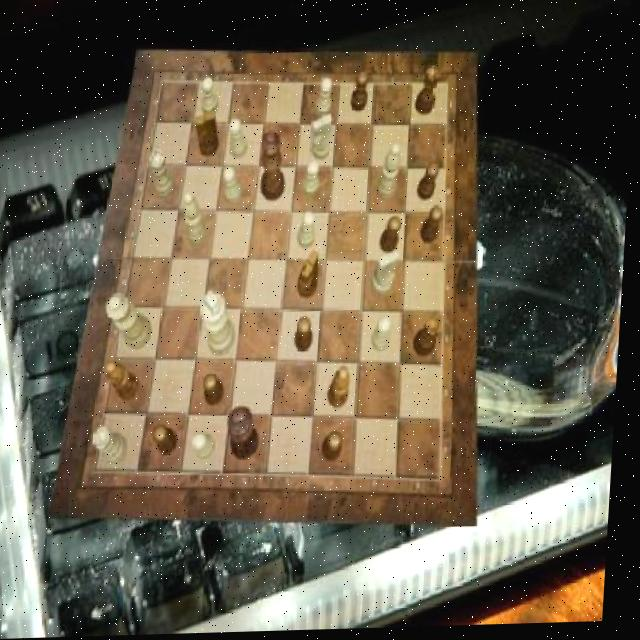bishop: (107, 361, 145, 403), (332, 368, 355, 411)
black-bishop: (230, 407, 265, 462)
black-king: (194, 111, 222, 158), (300, 252, 323, 300)
black-knight: (421, 208, 445, 246), (419, 165, 441, 203), (157, 424, 183, 456), (382, 220, 405, 256), (351, 74, 370, 115), (207, 373, 228, 407), (327, 433, 348, 464), (298, 319, 317, 353)
black-pawn: (259, 133, 289, 205)
black-queen: (416, 68, 442, 118), (416, 320, 446, 361)
black-rook: (182, 193, 211, 248), (376, 146, 402, 203)
white-bishop: (203, 291, 241, 357)
white-king: (374, 253, 403, 298), (313, 117, 336, 163)
white-knight: (223, 166, 244, 204), (230, 120, 249, 160), (202, 78, 221, 117), (375, 318, 395, 355), (300, 214, 319, 252), (303, 162, 322, 198), (317, 80, 334, 120), (197, 434, 221, 461)
white-pawn: (107, 293, 157, 352)
white-queen: (149, 149, 177, 198), (98, 427, 132, 465)
